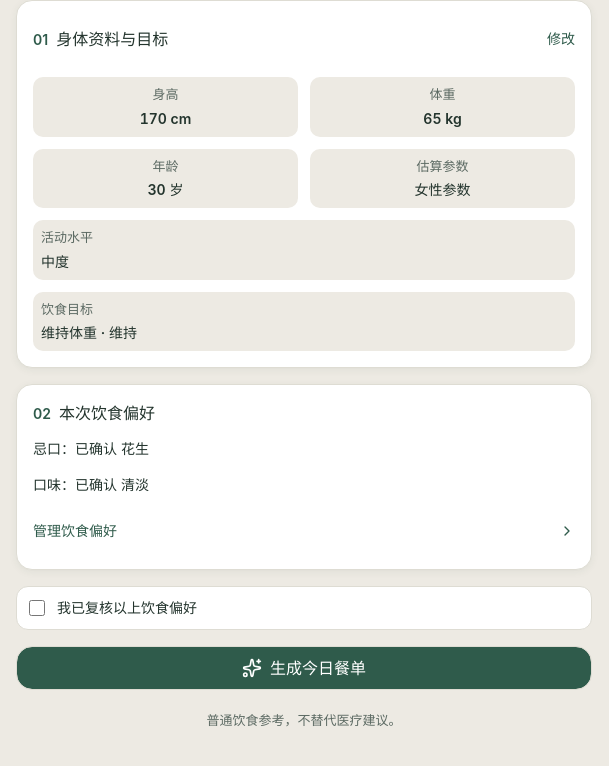
Test case: PlanPage › only sends displayed and confirmed values after submit, then renders the controlled three-meal snapshot in order
The width and height of the screenshot is (609, 766).
Expected: the text "忌口：已确认 花生" is shown, [33,440,149,457]
Click the checkbox labelled "我已复核以上饮食偏好" at (37, 608), box [29,600,45,616]
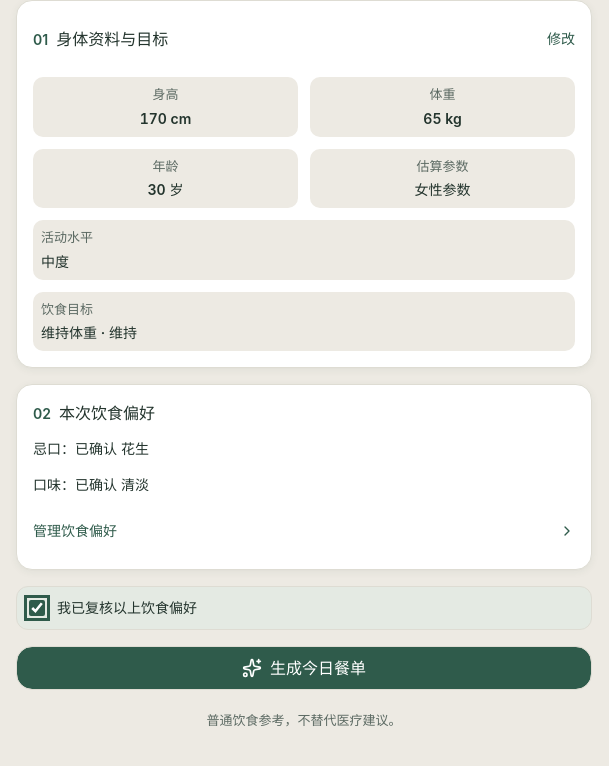
Click the button "生成今日餐单" at (304, 668), box [16,646,592,690]
(page scrolled)
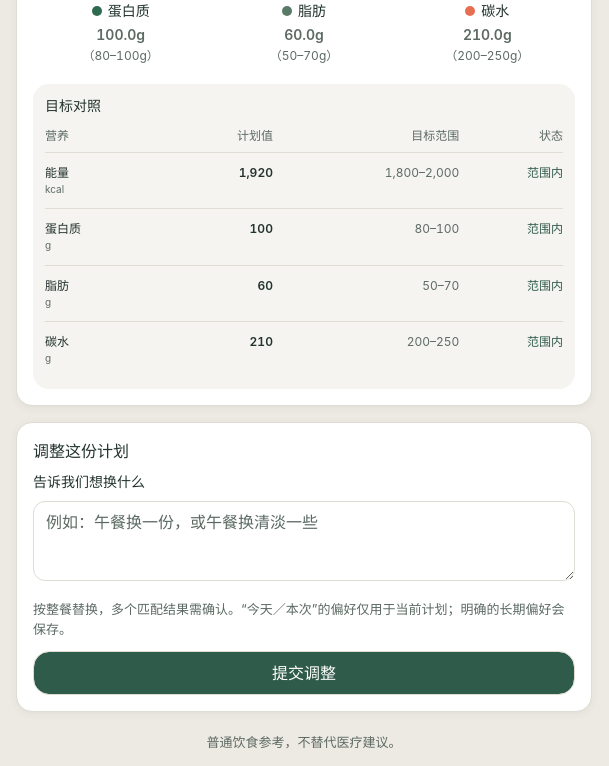
Result: the text "100.0g" is shown at [96,26,145,43]
Result: the text "（80–100g）" is shown at [82,48,159,63]
